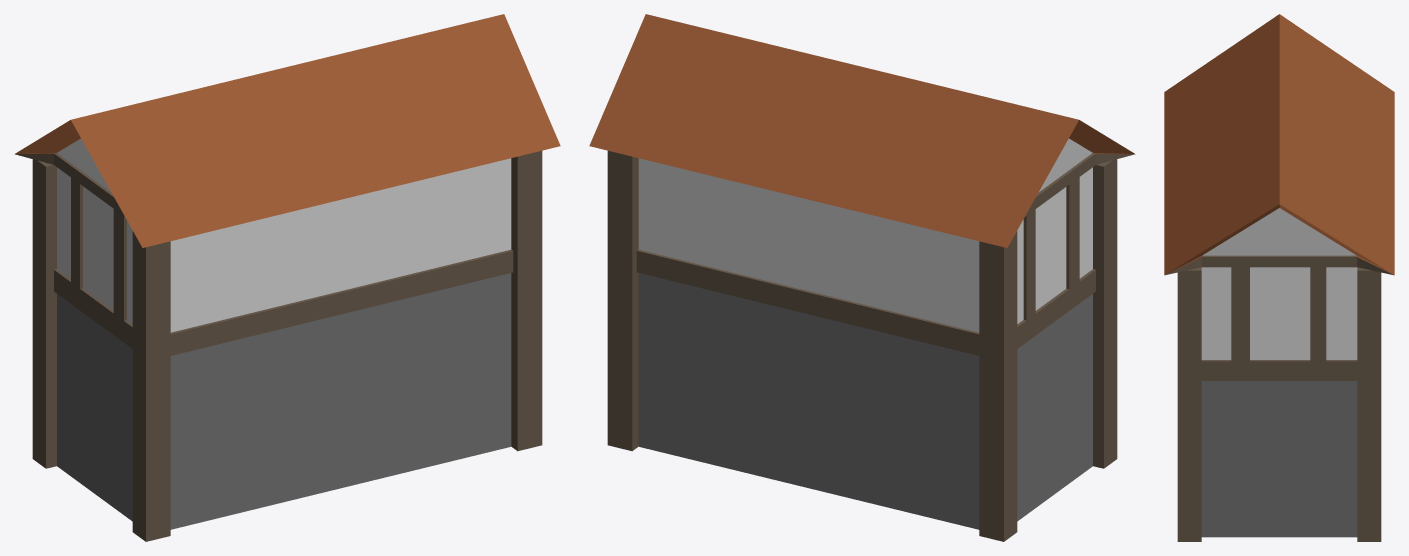
File: Building base5.fbx
3 renders of one model, left to right at view 1: azimuth 30°, elevation 25°; view 2: azimuth 150°, elevation 25°; view 3: azimuth 270°, elevation 25°, orthographic. The views are drawn at different scales.
Visible parts, largest first — view 1: Cube; view 2: Cube; view 3: Cube.
Boxes of the visible parts, bbox=[...] form: Cube: bbox=[14, 14, 560, 541]; Cube: bbox=[589, 14, 1135, 541]; Cube: bbox=[1164, 14, 1394, 541].
Size of the model in its own units: 442 by 375 by 226.
